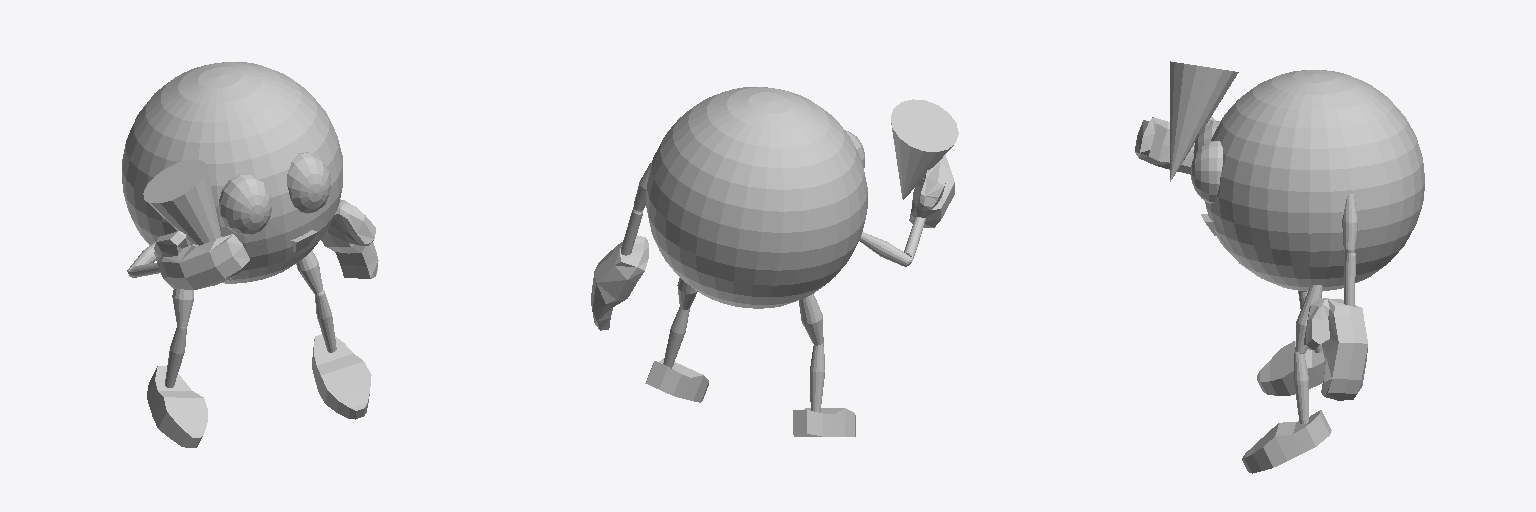
The model's file is stepLeft_000012.obj.
3 views of the same model, side by side, from view 1: azimuth 30°, elevation 25°; view 2: azimuth 150°, elevation 25°; view 3: azimuth 270°, elevation 25° (orthographic).
Visible parts, largest first — view 1: Rusko_Sphere; view 2: Rusko_Sphere; view 3: Rusko_Sphere.
Part boxes in pixels (bbox=[...]): Rusko_Sphere: bbox=[122, 62, 378, 447]; Rusko_Sphere: bbox=[591, 87, 958, 436]; Rusko_Sphere: bbox=[1135, 61, 1424, 473].
Size of the model in its own units: 6.09 by 6.86 by 5.23.